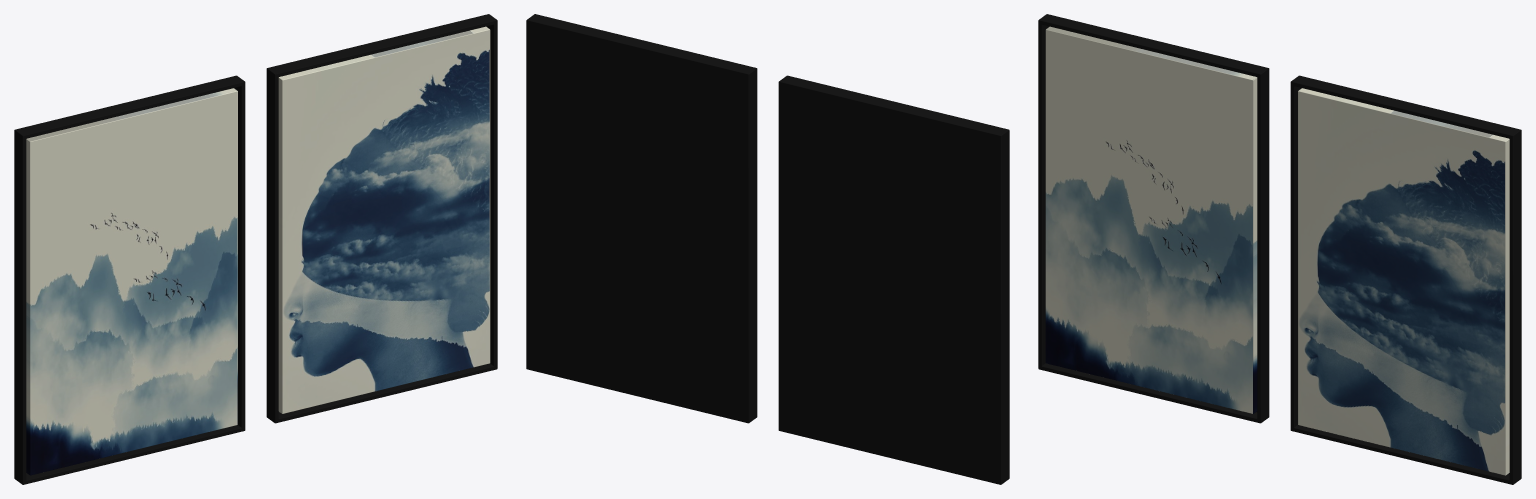
Rendered from Frames.glb.
3 views of the same model, side by side, from view 1: azimuth 30°, elevation 25°; view 2: azimuth 150°, elevation 25°; view 3: azimuth 330°, elevation 25° (orthographic).
Parts seen in each view (by area): view 1: Frame; view 2: Frame; view 3: Frame.
Part boxes in pixels (left/top/right/bottom): Frame: left=14, top=14, right=497, bottom=484; Frame: left=526, top=14, right=1009, bottom=484; Frame: left=1038, top=14, right=1521, bottom=484.
Bounding box in the file's own units: 1.28 × 0.9 × 0.04.
Materials: 3 (2 with a texture image).
